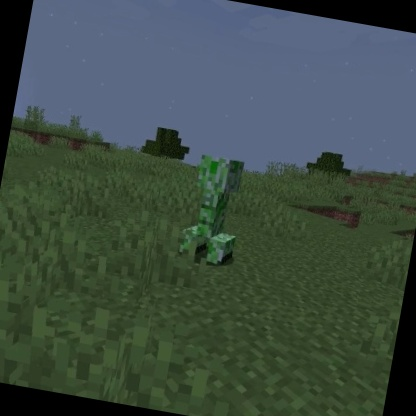creeper: (174, 150, 251, 272)
